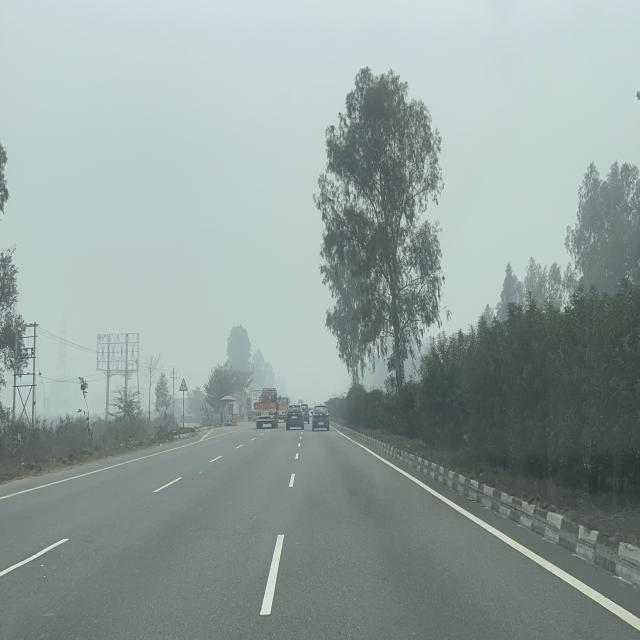WARNING: (179, 378, 188, 391)
